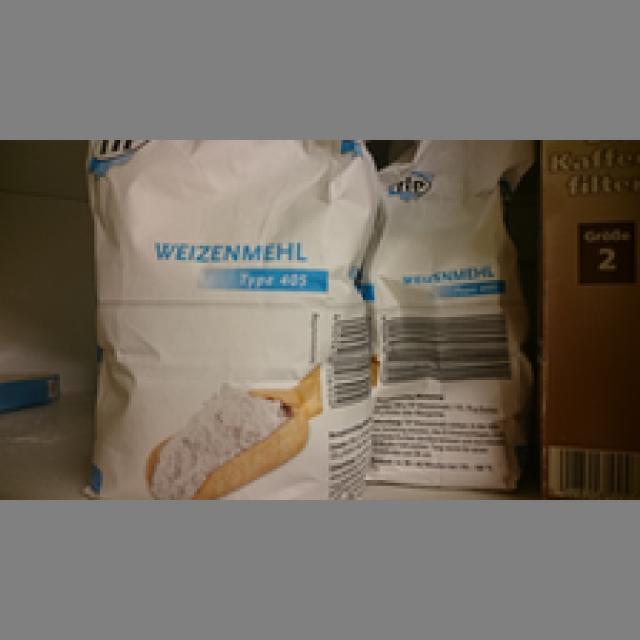groceries: (83, 137, 366, 500), (363, 140, 531, 489)
